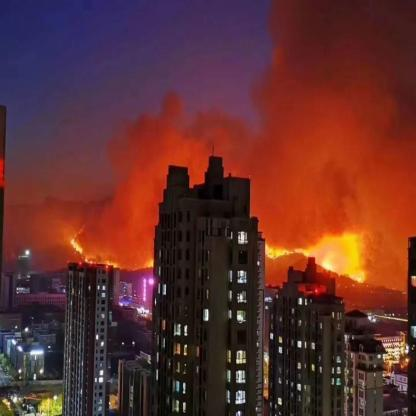Fire: (265, 229, 369, 284), (57, 232, 161, 271)
